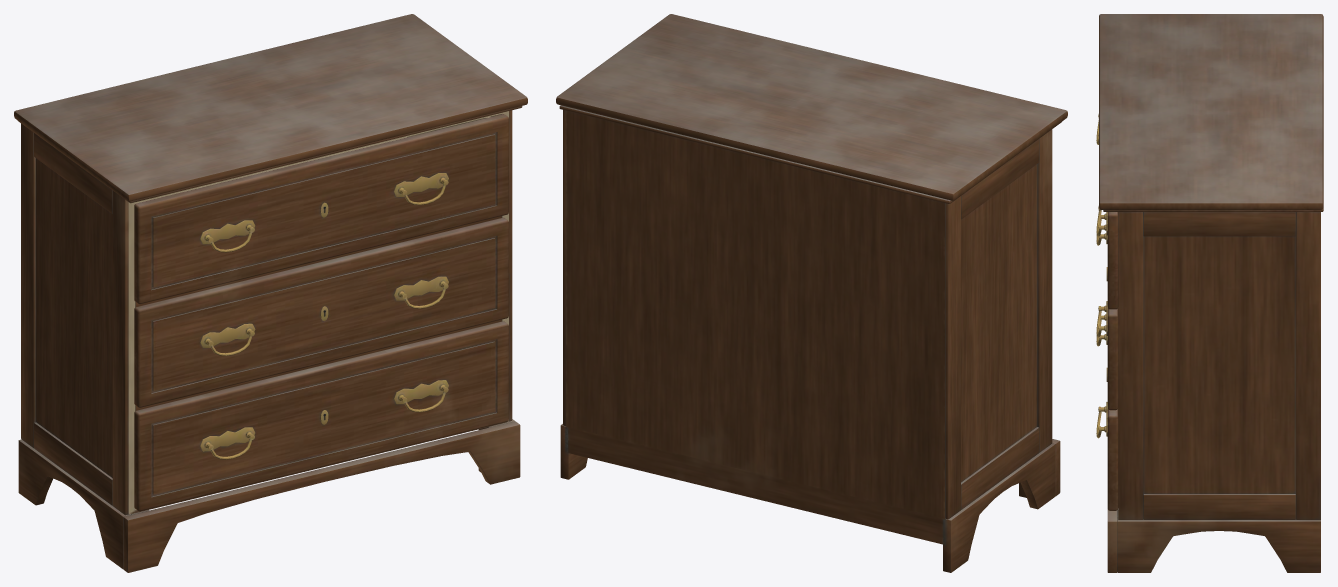
The model's file is comoda.glb.
3 views of the same model, side by side, from view 1: azimuth 30°, elevation 25°; view 2: azimuth 150°, elevation 25°; view 3: azimuth 270°, elevation 25° (orthographic). The views are drawn at different scales.
Parts seen in each view (by area): view 1: corpo, gaveta_3, gaveta_1, gaveta_2; view 2: corpo; view 3: corpo, gaveta_2, gaveta_1, gaveta_3.
Part boxes in pixels (x1,y1,x2,y2): corpo: (14,14,527,572); gaveta_3: (134,114,508,304); gaveta_1: (134,321,508,511); gaveta_2: (134,217,508,407); corpo: (556,14,1067,572); corpo: (1099,14,1323,572); gaveta_2: (1096,213,1118,410); gaveta_1: (1096,314,1118,510); gaveta_3: (1096,114,1118,309).
Bounding box in the file's own units: 0.93 × 0.85 × 0.4699.
Materials: 2 (2 with a texture image).
